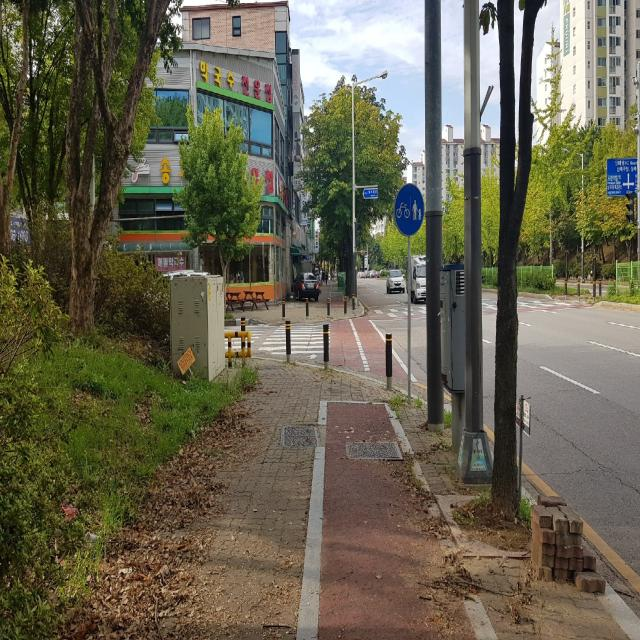횡단보도: (225, 323, 331, 359), (372, 306, 424, 316), (519, 295, 553, 308)
